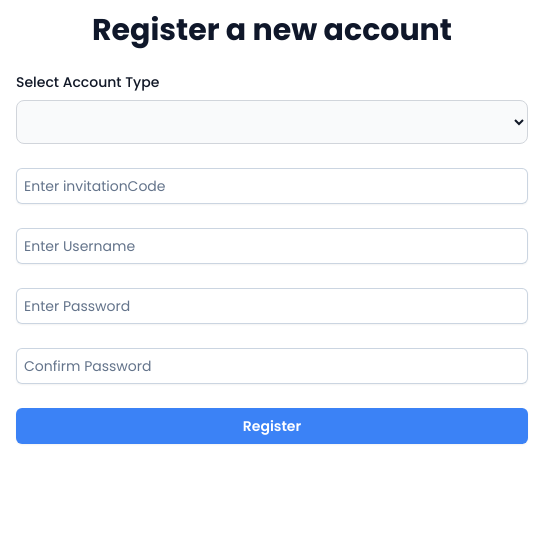
it: RegisterView › error correctly displayed for password and confirmation not matching
The image size is (545, 557).
Type "A" into the password field with placeholder "Enter Password".
click(272, 306); type("A")  # box [16,288,528,324]
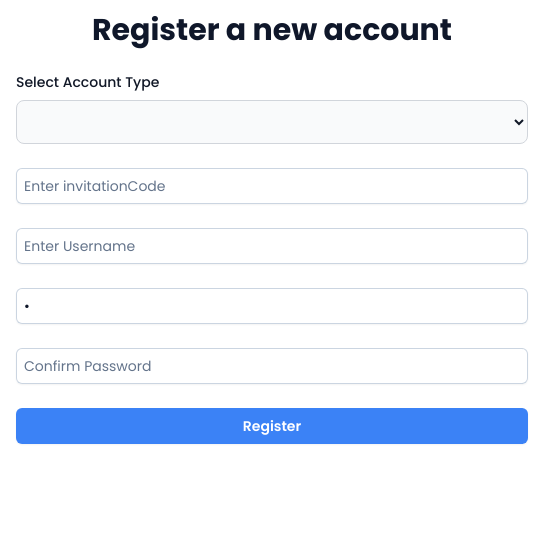
Type "B" into the password field with placeholder "Confirm Password".
click(272, 366); type("B")  # box [16,348,528,384]
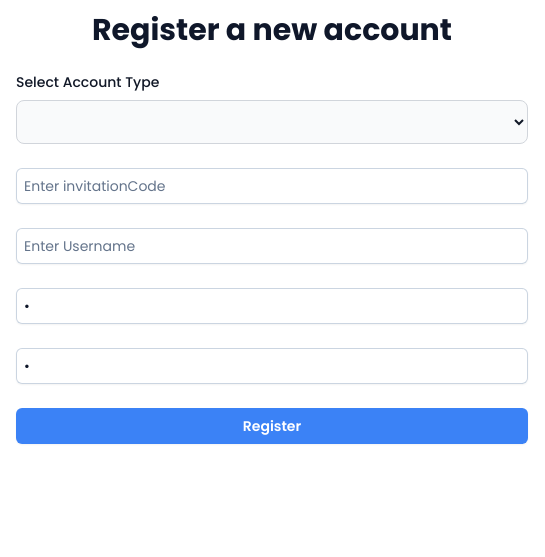
Submit the form
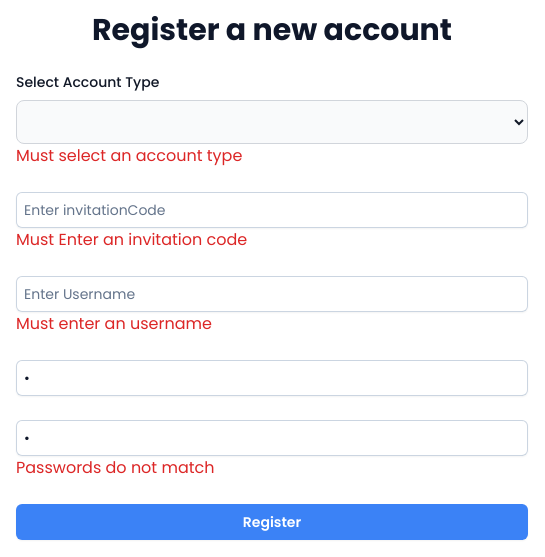
Check: the heading "Passwords do not match" is shown, box [16,456,214,479]
